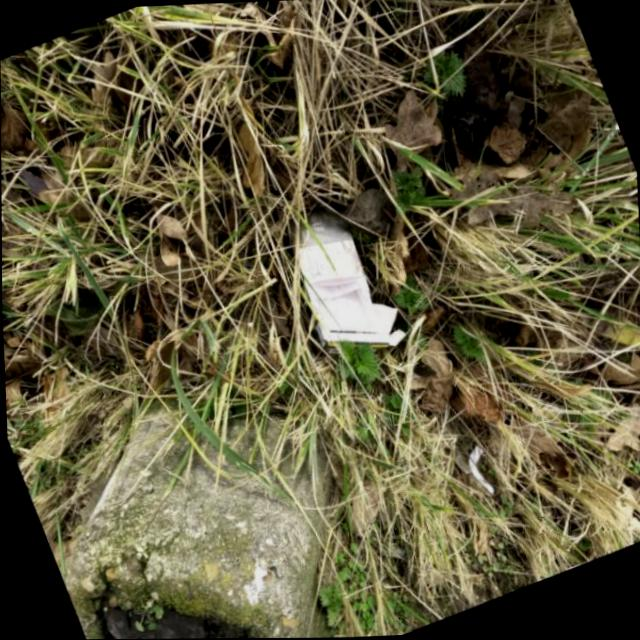Paper: (290, 204, 408, 351)
